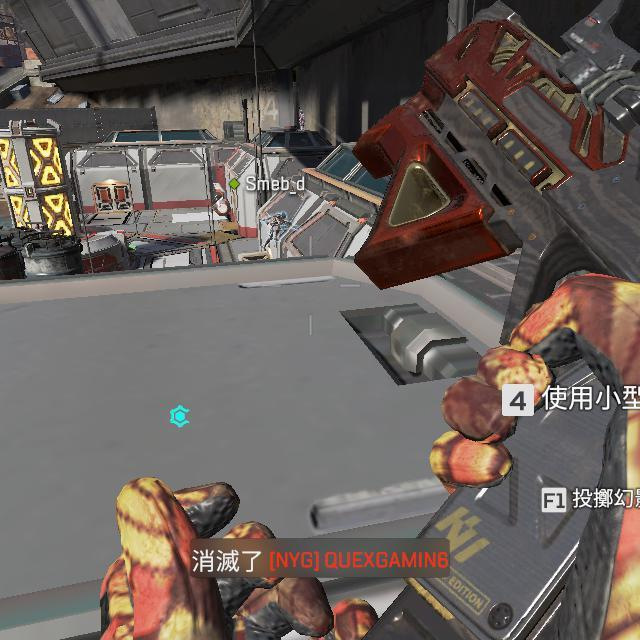avatar: (260, 210, 289, 252)
